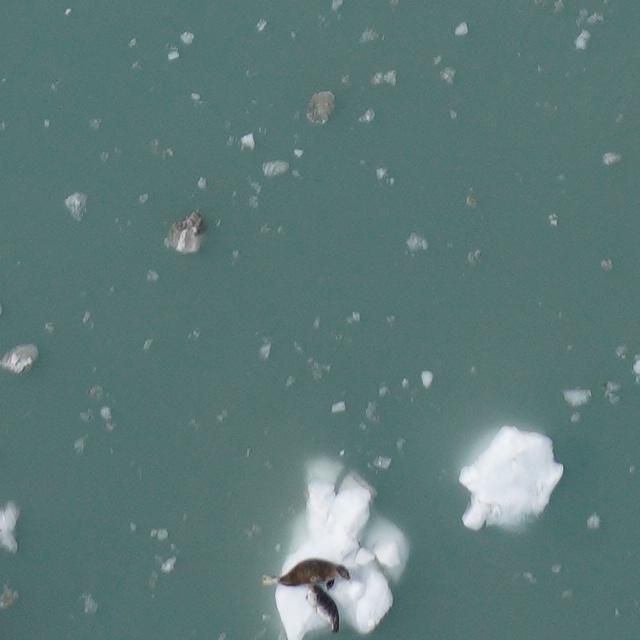seal: (260, 553, 355, 593), (297, 577, 354, 637)
